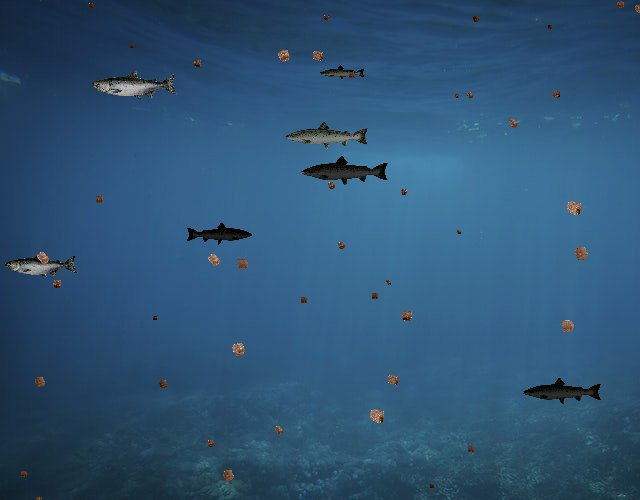Fish: (300, 154, 390, 187), (284, 120, 370, 151), (92, 70, 178, 101), (522, 376, 603, 406), (5, 253, 78, 279), (186, 221, 254, 246), (319, 64, 366, 81)
Pellet: (306, 45, 329, 68), (503, 113, 523, 133), (189, 55, 206, 72), (368, 289, 382, 303), (85, 0, 98, 12), (452, 90, 462, 100)
